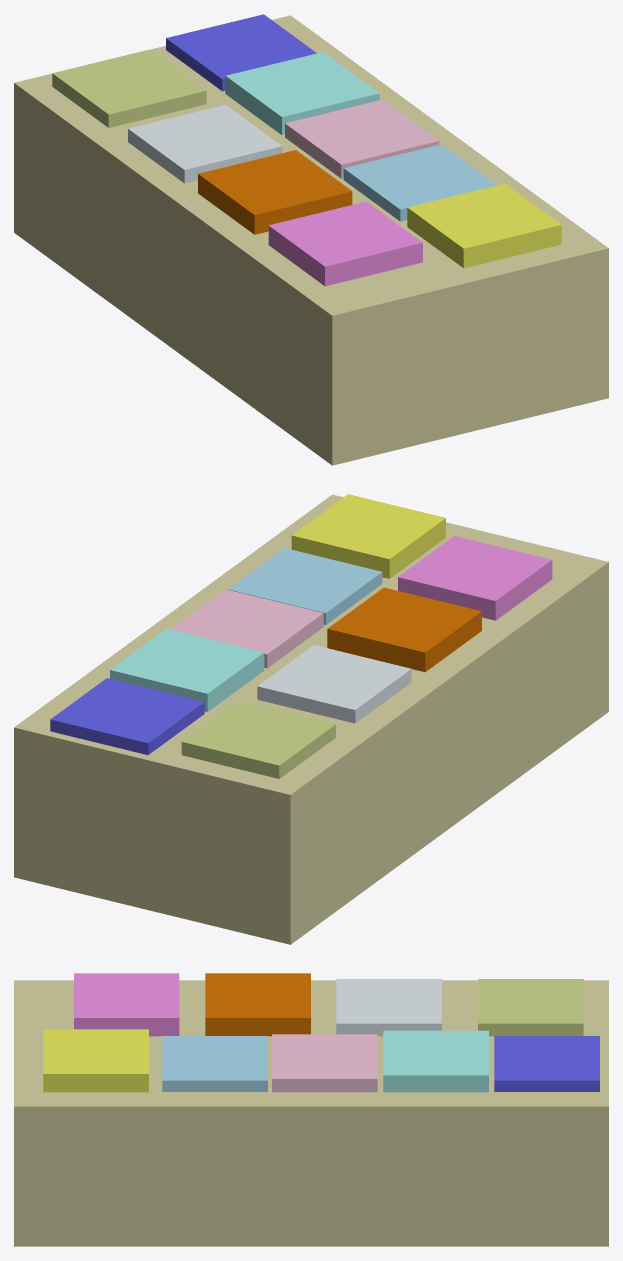
The model's file is Clothing Table 6.fbx.
The picture shows the model from 3 angles, top to bottom: view 1: azimuth 30°, elevation 25°; view 2: azimuth 150°, elevation 25°; view 3: azimuth 270°, elevation 25°; orthographic projection. The views are drawn at different scales.
Parts seen in each view (by area): view 1: etale_vetement_straight_pCube38; view 2: etale_vetement_straight_pCube38; view 3: etale_vetement_straight_pCube38.
Part boxes in pixels (bbox=[...]): etale_vetement_straight_pCube38: bbox=[14, 14, 608, 465]; etale_vetement_straight_pCube38: bbox=[14, 494, 608, 944]; etale_vetement_straight_pCube38: bbox=[14, 973, 608, 1246].
Bounding box in the file's own units: 1.59 × 0.9297 × 3.17.
